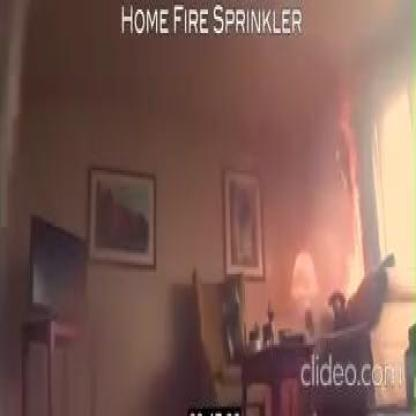fire: (333, 104, 364, 295)
